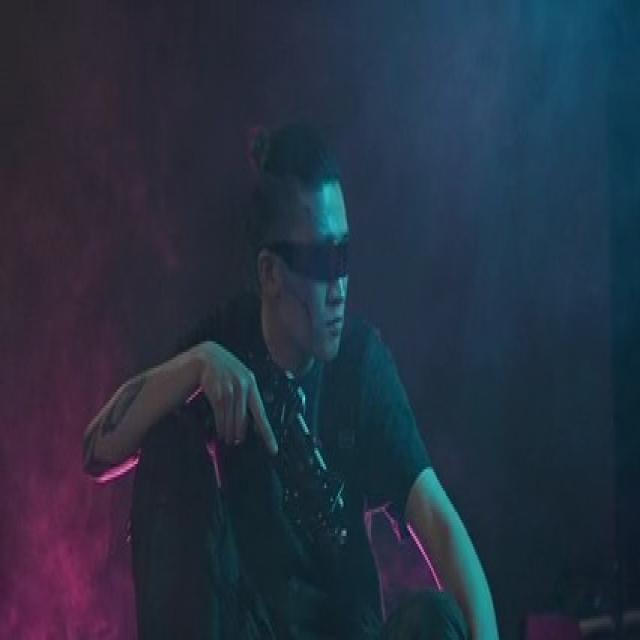Gun_Holder: (205, 338, 356, 569)
Person: (79, 111, 499, 640)
